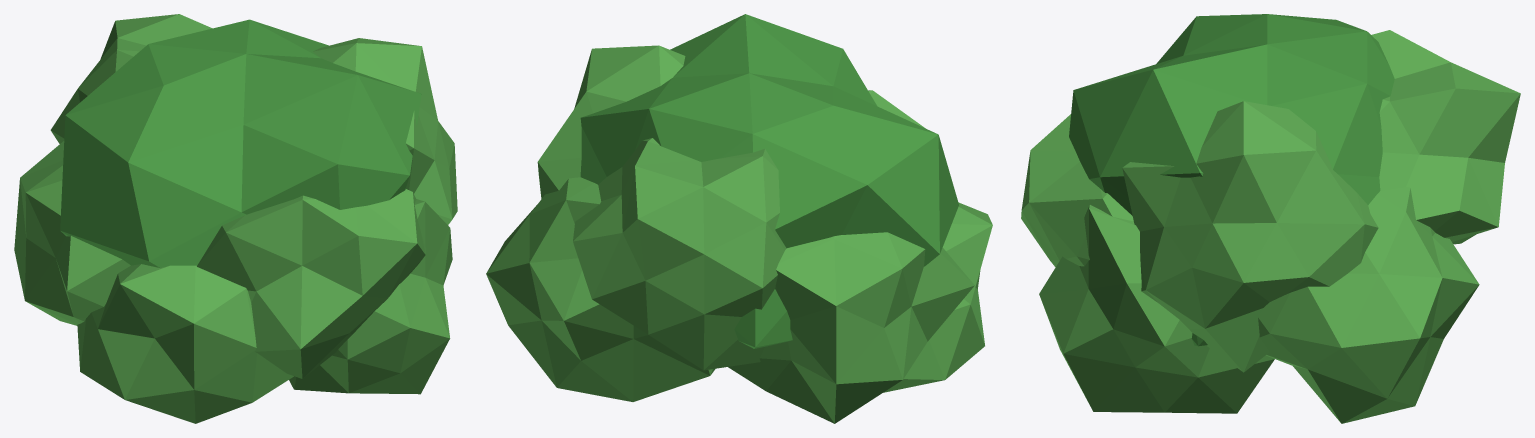
The model's file is plant.glb.
3 renders of one model, left to right at view 1: azimuth 30°, elevation 25°; view 2: azimuth 150°, elevation 25°; view 3: azimuth 270°, elevation 25°, orthographic. The views are drawn at different scales.
Parts seen in each view (by area): view 1: plant; view 2: plant; view 3: plant.
Boxes of the visible parts, x1,y1,x2,y2 form: plant: [14, 14, 457, 423]; plant: [486, 14, 992, 423]; plant: [1021, 14, 1520, 423].
Size of the model in its own units: 0.8082 by 0.5906 by 0.8209.
